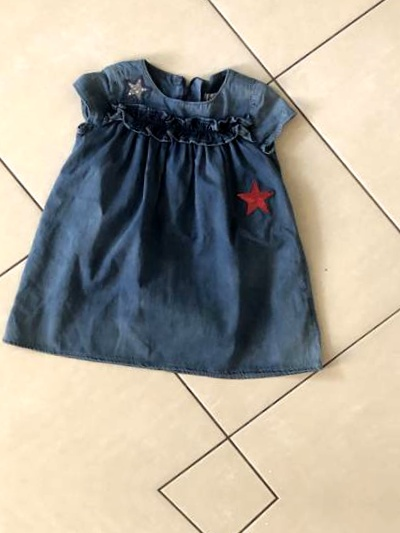Dress: (6, 0, 361, 390)
